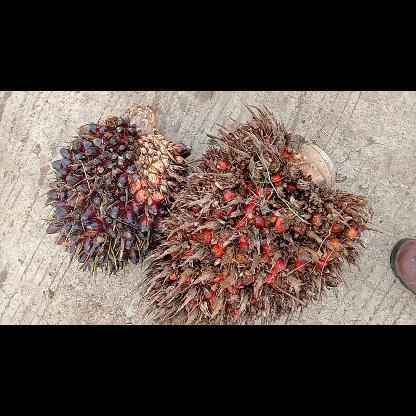TBS mentah: (42, 106, 190, 276)
Terlalu masak: (137, 102, 373, 324)
